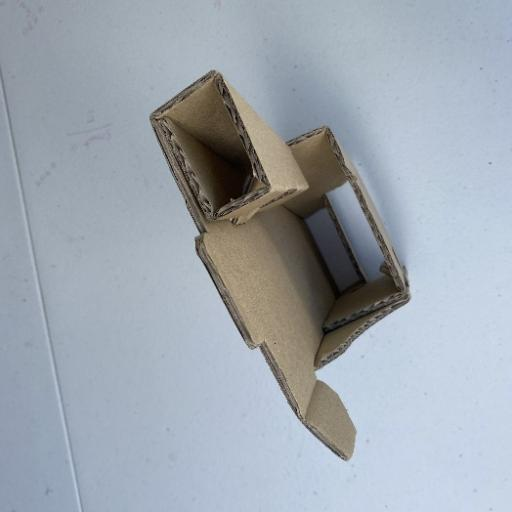Cardboard: (148, 68, 412, 462)
